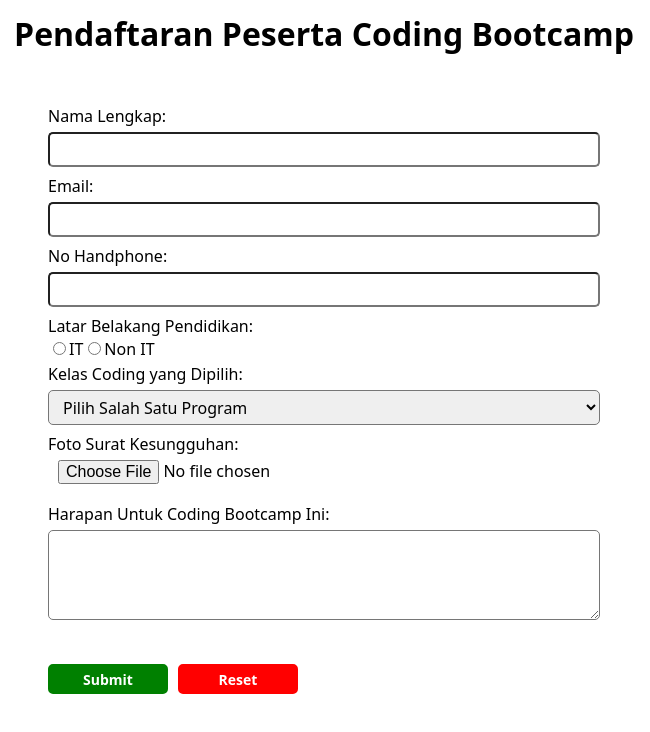
Test: FormCoding › Testing error input email
Step 1. Type "emailaja" into the field labelled "Email:" → coordinates (324, 220), box [48,202,600,237]
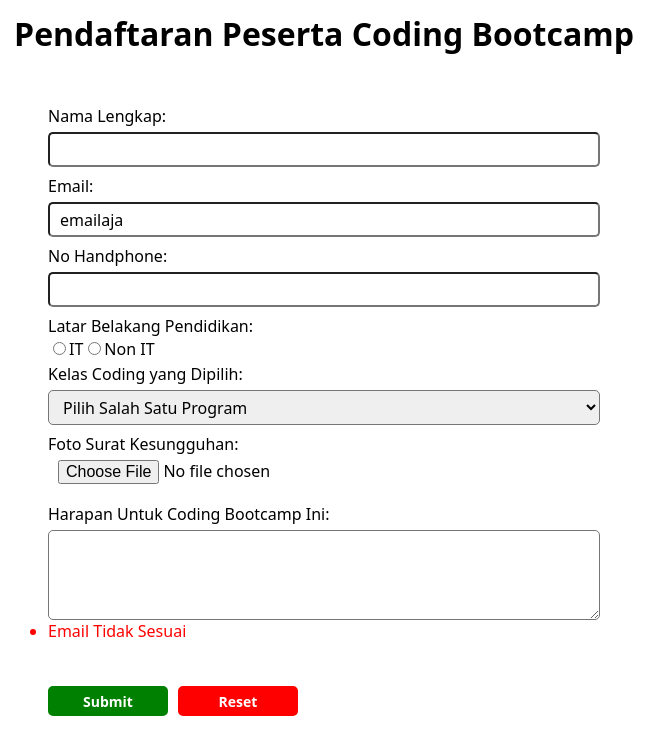
Result: the list item "Email Tidak Sesuai" is shown at [48,620,186,642]
